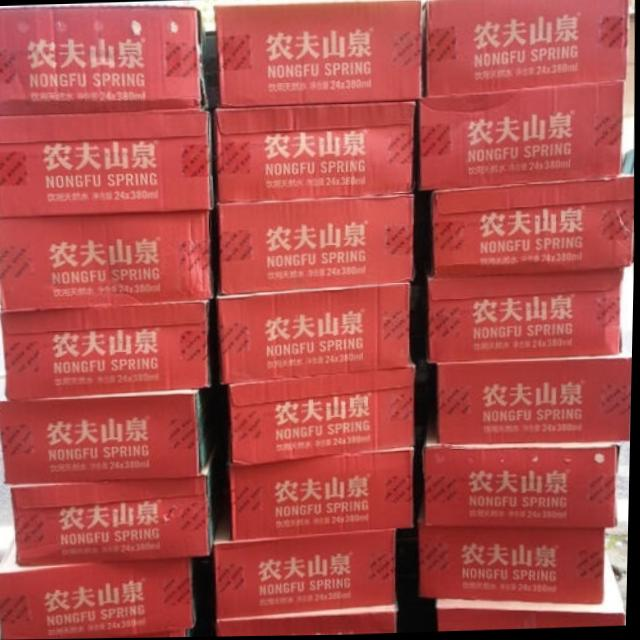box: (13, 431, 232, 563), (214, 479, 399, 619), (0, 107, 214, 217), (416, 174, 633, 281), (0, 7, 208, 118), (415, 82, 625, 191), (0, 385, 230, 483), (209, 99, 415, 205), (213, 1, 422, 105), (213, 191, 417, 295), (210, 282, 414, 386), (0, 209, 214, 307), (421, 0, 630, 100), (3, 300, 210, 400), (410, 269, 623, 366), (415, 359, 633, 448), (0, 544, 199, 640), (230, 366, 416, 465), (415, 443, 620, 528), (231, 446, 416, 540), (437, 551, 629, 631), (421, 527, 608, 606), (219, 604, 399, 637)
